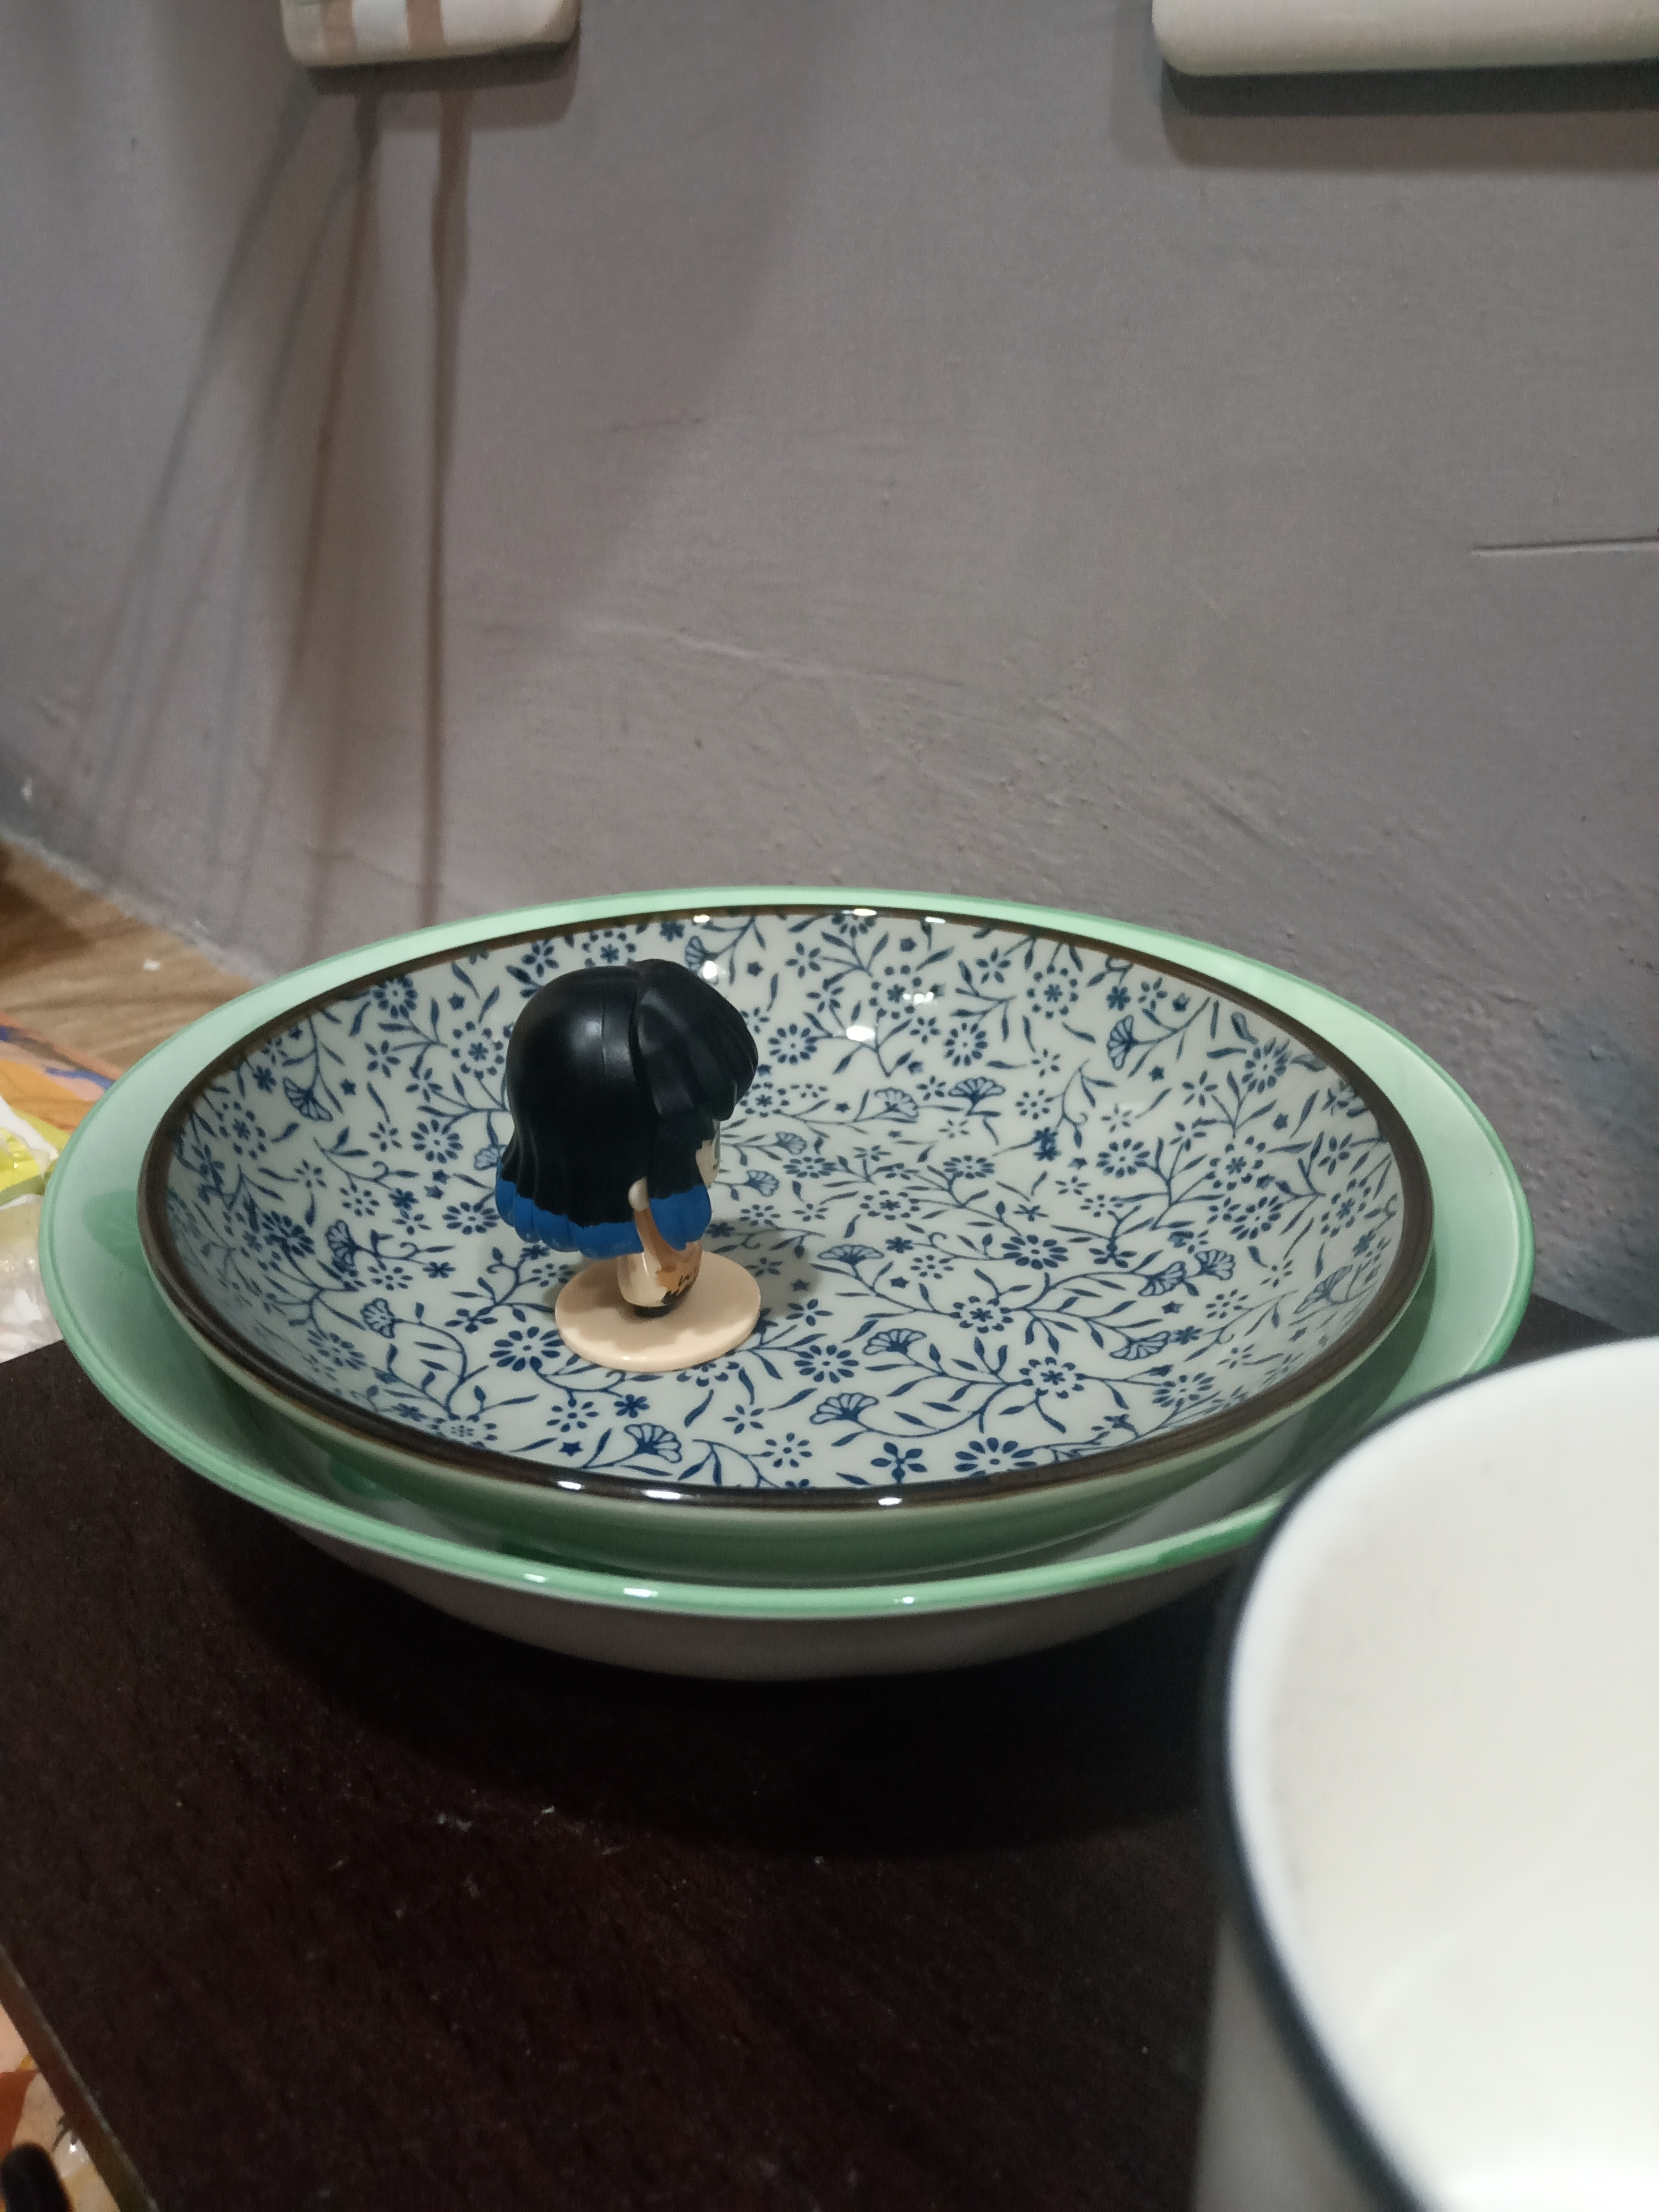Inosuke: (474, 935, 823, 1402)
